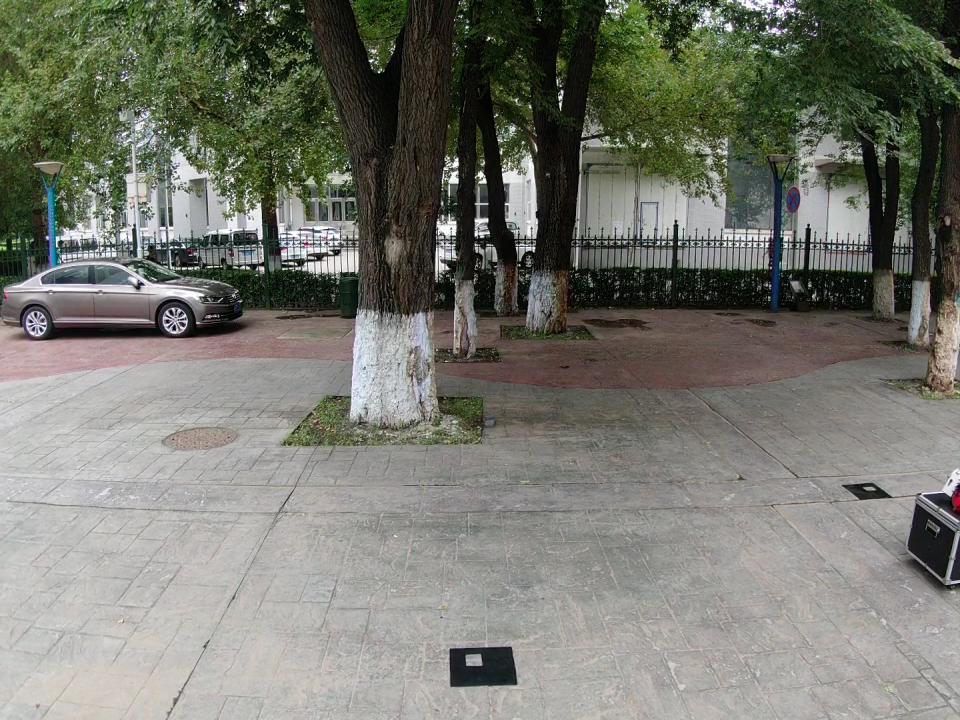qrcode: (450, 647, 518, 686), (842, 483, 892, 500)
